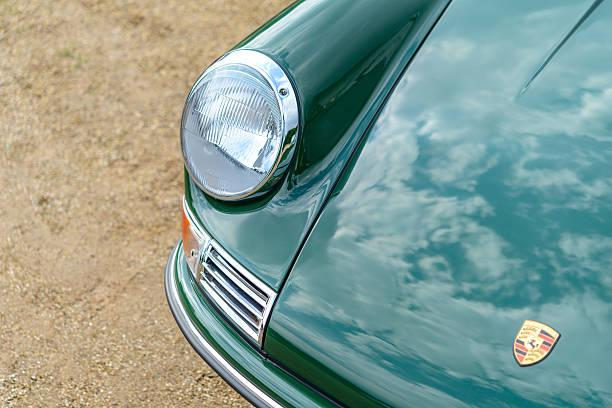porsche: (504, 304, 564, 378)
